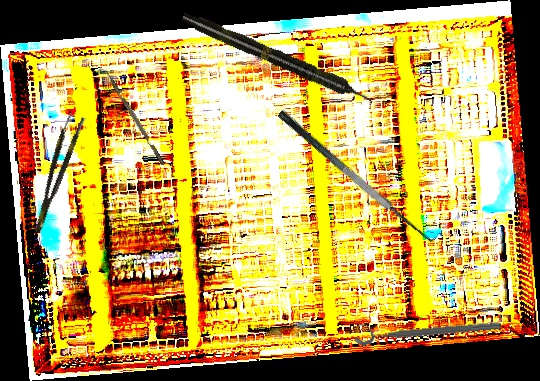Chopper: (98, 64, 165, 169)
Fixation Ring: (353, 309, 502, 347)
Handpiece: (179, 8, 377, 110)
Spatula Surgical: (276, 96, 444, 251)
Tissue Forceps: (24, 111, 86, 235)
